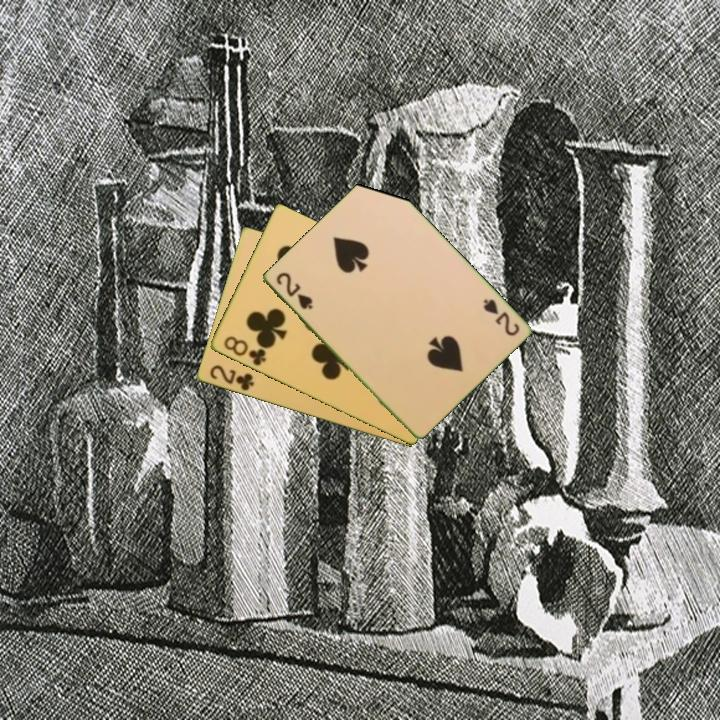2c: (206, 361, 257, 394)
2s: (479, 295, 522, 339), (272, 269, 315, 312)
8c: (220, 332, 269, 369)
